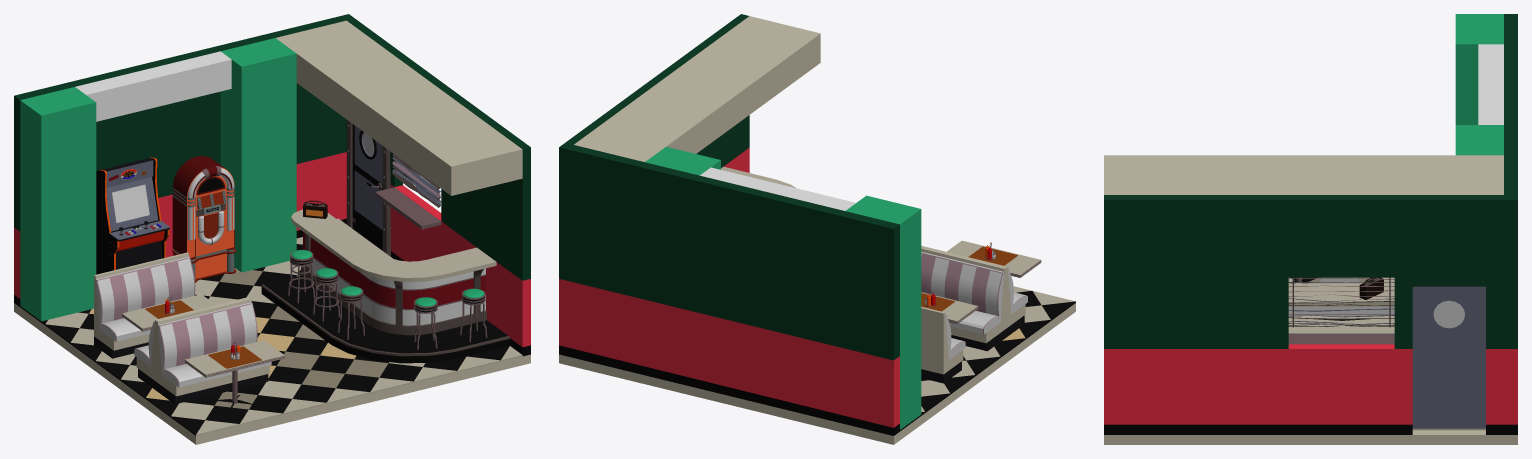
3 renders of one model, left to right at view 1: azimuth 30°, elevation 25°; view 2: azimuth 150°, elevation 25°; view 3: azimuth 270°, elevation 25°, orthographic. The views are drawn at different scales.
Parts seen in each view (by area): view 1: Cube, Cube.045, Cube.010, Cube.011, Cube.013, Cube.009, Cube.008, Cube.014, Cube.079, Cube.345, Cube.340, Cube.075 (+38 smaller); view 2: Cube, Cube.045, Cube.010, Cube.079, Cube.005, Cube.009, Cube.338, Cube.011, Cube.346, Cube.004, Cube.003, Cube.006; view 3: Cube, Cube.045, Cube.075, Cube.079, Cube.010, Cube.014, Cube.009, Cube.015, Cube.011, Cube.048, Cube.008, Cube.078.
Boxes of the visible parts, x1=… form: Cube: x1=14, y1=14, x2=530, y2=356; Cube.045: x1=276, y1=20, x2=522, y2=195; Cube.010: x1=20, y1=87, x2=96, y2=321; Cube.011: x1=220, y1=38, x2=296, y2=272; Cube.013: x1=261, y1=275, x2=509, y2=363; Cube.009: x1=75, y1=51, x2=231, y2=121; Cube.008: x1=303, y1=232, x2=485, y2=325; Cube.014: x1=291, y1=209, x2=496, y2=281; Cube.079: x1=14, y1=303, x2=530, y2=444; Cube.345: x1=158, y1=302, x2=257, y2=369; Cube.340: x1=95, y1=256, x2=195, y2=323; Cube.075: x1=352, y1=124, x2=382, y2=250; Cube: x1=559, y1=14, x2=899, y2=435; Cube.045: x1=574, y1=16, x2=820, y2=161; Cube.010: x1=845, y1=195, x2=921, y2=429; Cube.079: x1=559, y1=303, x2=1075, y2=444; Cube.005: x1=921, y1=252, x2=1004, y2=316; Cube.009: x1=700, y1=167, x2=855, y2=210; Cube.338: x1=921, y1=306, x2=948, y2=374; Cube.011: x1=645, y1=146, x2=720, y2=175; Cube.346: x1=947, y1=240, x2=1041, y2=277; Cube.004: x1=949, y1=311, x2=1000, y2=334; Cube.003: x1=921, y1=247, x2=1005, y2=331; Cube.006: x1=921, y1=292, x2=978, y2=323; Cube: x1=1104, y1=14, x2=1517, y2=434; Cube.045: x1=1104, y1=155, x2=1503, y2=194; Cube.075: x1=1412, y1=286, x2=1485, y2=428; Cube.079: x1=1104, y1=430, x2=1517, y2=444; Cube.010: x1=1455, y1=14, x2=1503, y2=124; Cube.014: x1=1288, y1=283, x2=1394, y2=306; Cube.009: x1=1478, y1=44, x2=1503, y2=124; Cube.015: x1=1288, y1=316, x2=1394, y2=333; Cube.011: x1=1455, y1=125, x2=1503, y2=155; Cube.048: x1=1288, y1=333, x2=1394, y2=344; Cube.008: x1=1288, y1=306, x2=1394, y2=315; Cube.078: x1=1433, y1=300, x2=1464, y2=328.
Bounding box in the file's own units: 857 × 528 × 807.
